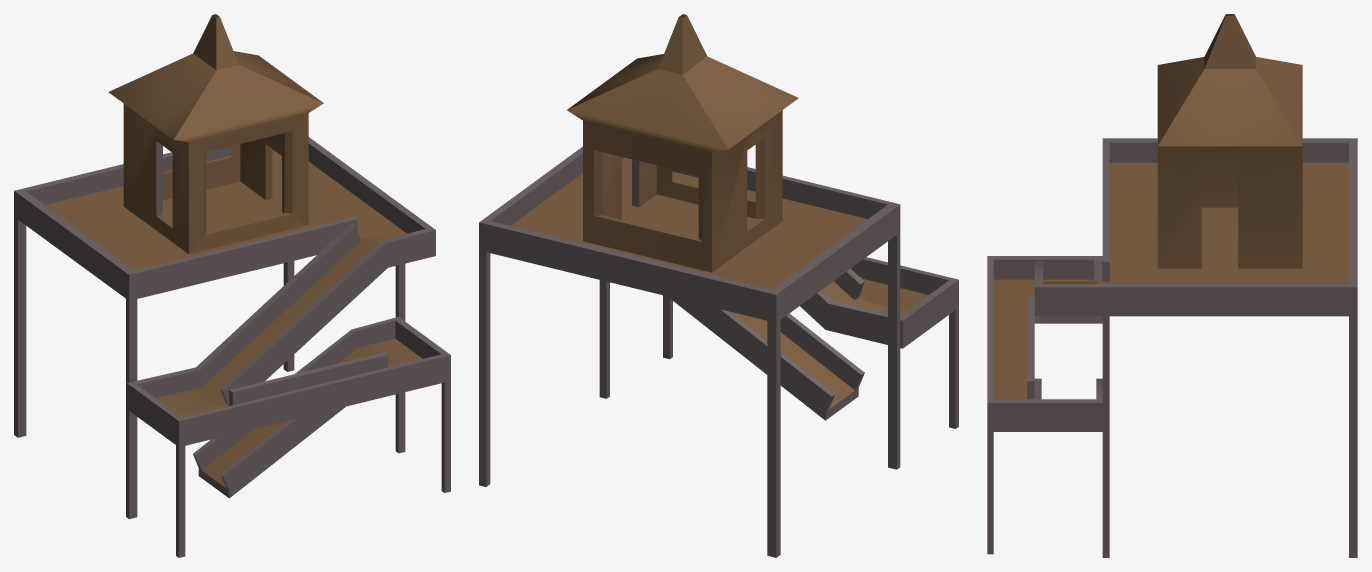
Rendered from WatchTower.fbx.
The picture shows the model from 3 angles, left to right: view 1: azimuth 30°, elevation 25°; view 2: azimuth 150°, elevation 25°; view 3: azimuth 270°, elevation 25°; orthographic projection. The views are drawn at different scales.
Visible parts, largest first — view 1: WatchTower; view 2: WatchTower; view 3: WatchTower.
Part boxes in pixels (x1,y1,x2,y2): WatchTower: (14,14,450,557); WatchTower: (479,14,958,557); WatchTower: (987,14,1357,557).
Size of the model in its own units: 2266 by 3312 by 2357.
